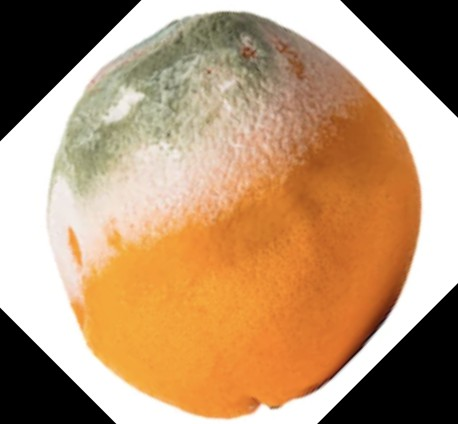rotten_orange: (48, 11, 422, 419)
